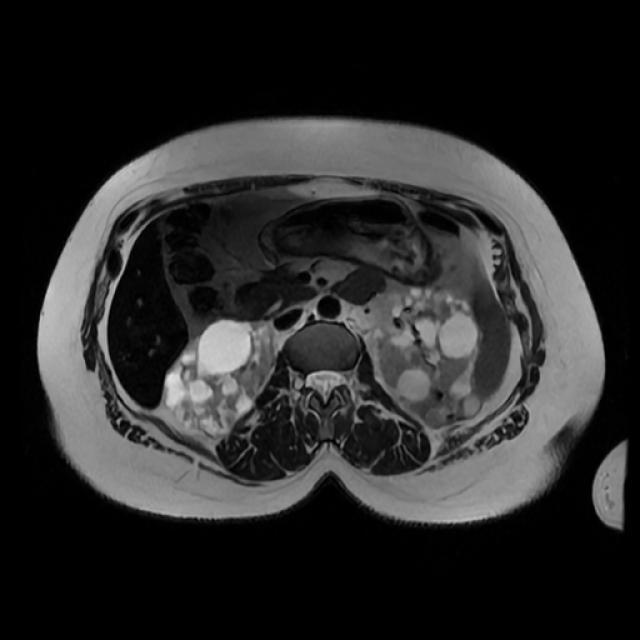sag: (166, 317, 274, 435)
sol: (380, 287, 482, 428)
